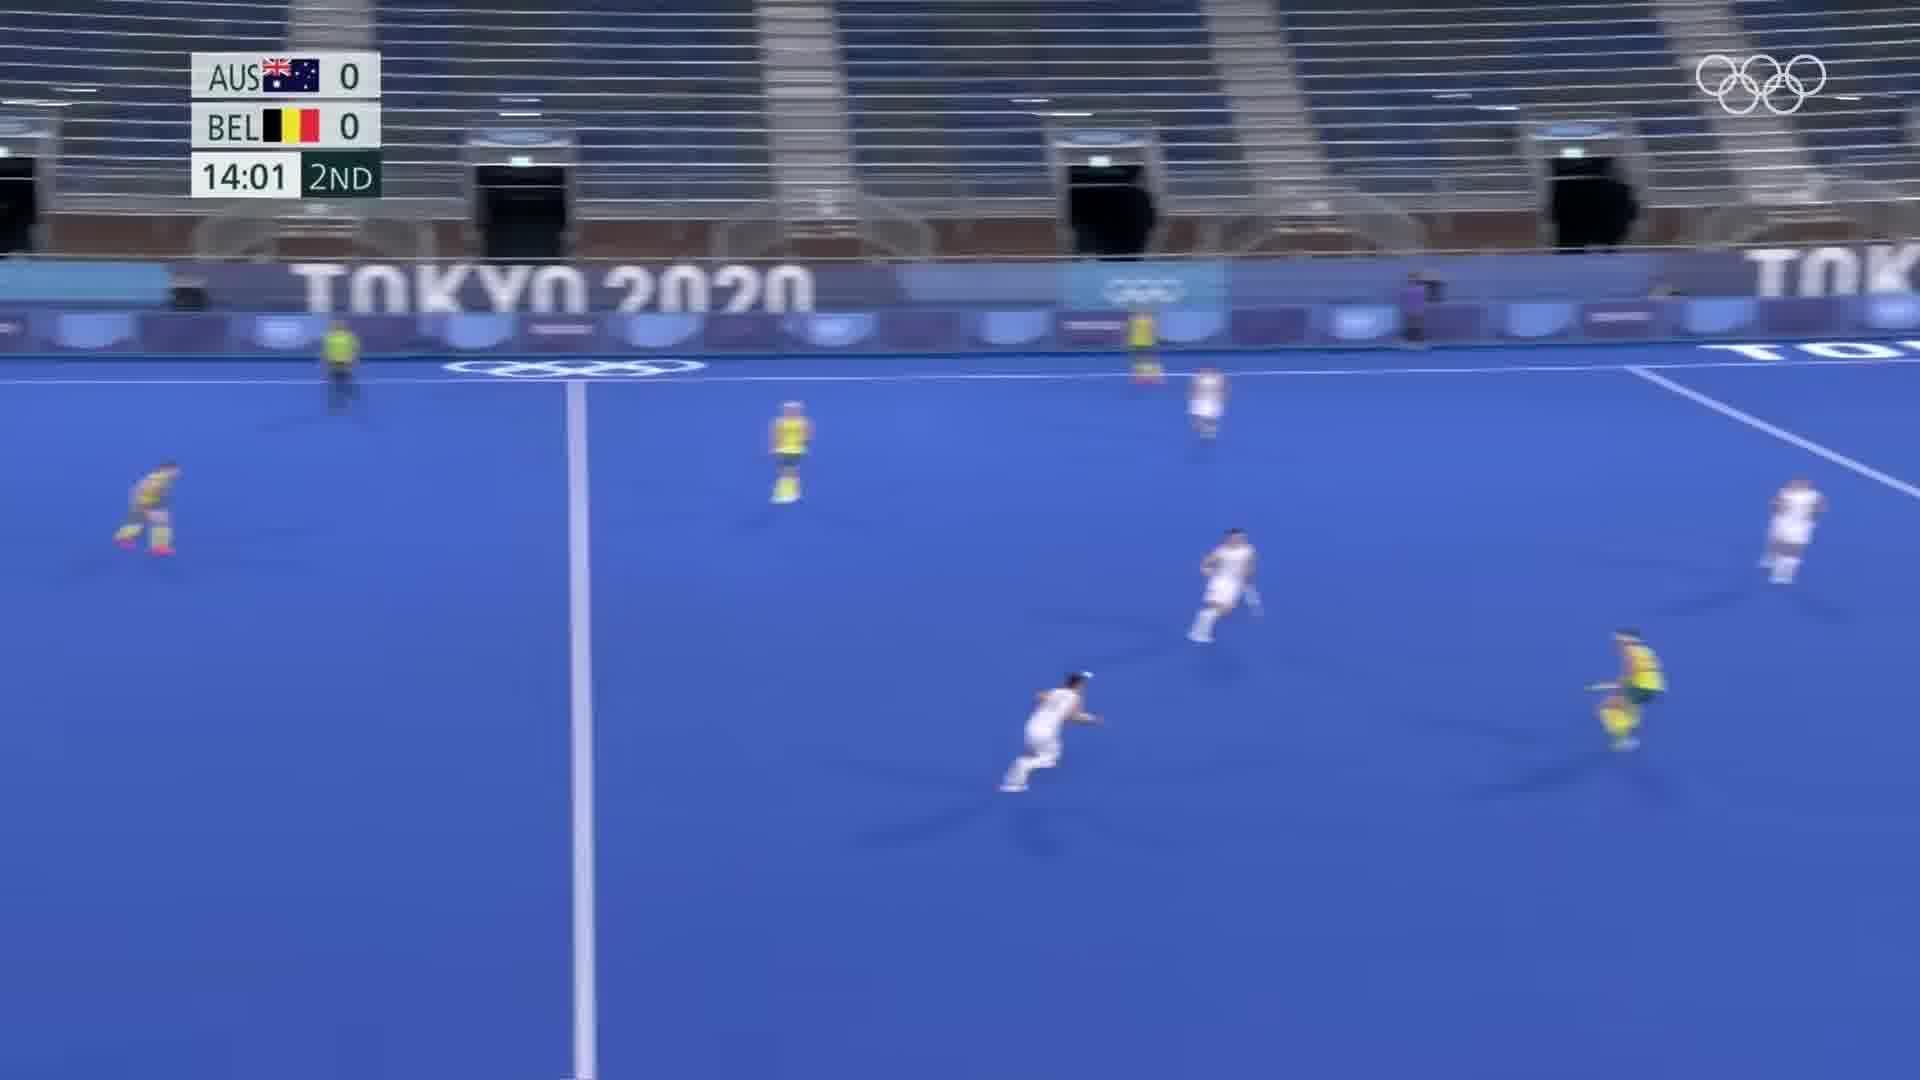ball: (1081, 665, 1106, 680)
